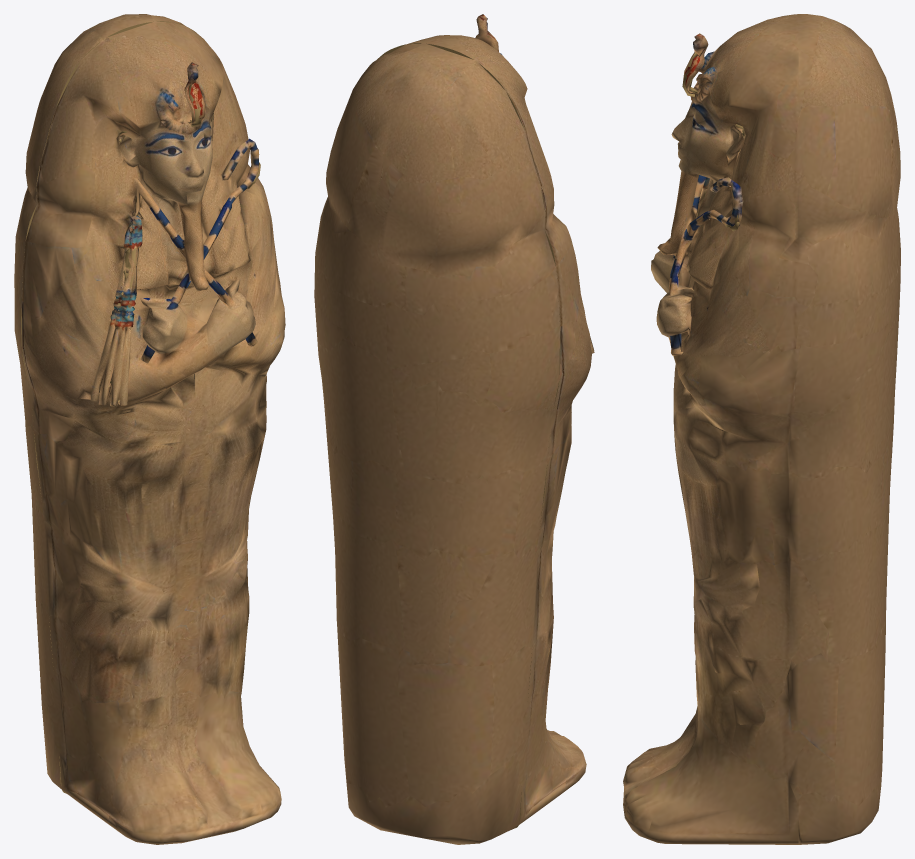
File: nested-coffins-ai.glb
3 renders of one model, left to right at view 1: azimuth 30°, elevation 25°; view 2: azimuth 150°, elevation 25°; view 3: azimuth 270°, elevation 25°, orthographic. The views are drawn at different scales.
Parts seen in each view (by area): view 1: outer-lid, outer-hollow-case; view 2: outer-hollow-case, outer-lid; view 3: outer-lid, outer-hollow-case.
Part boxes in pixels (x1,y1,x2,y2): outer-lid: (21,21,285,844); outer-hollow-case: (14,14,191,793); outer-hollow-case: (314,43,560,844); outer-lid: (408,14,594,824); outer-lid: (623,14,798,844); outer-hollow-case: (798,14,900,844).
Size of the model in its own units: 0.6329 by 1.9 by 0.6098.
9 materials, 3 textured.
